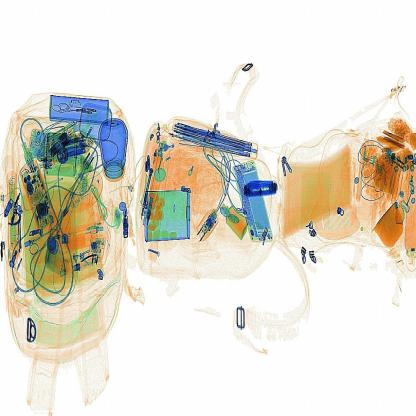scissors: (236, 171, 287, 206)
